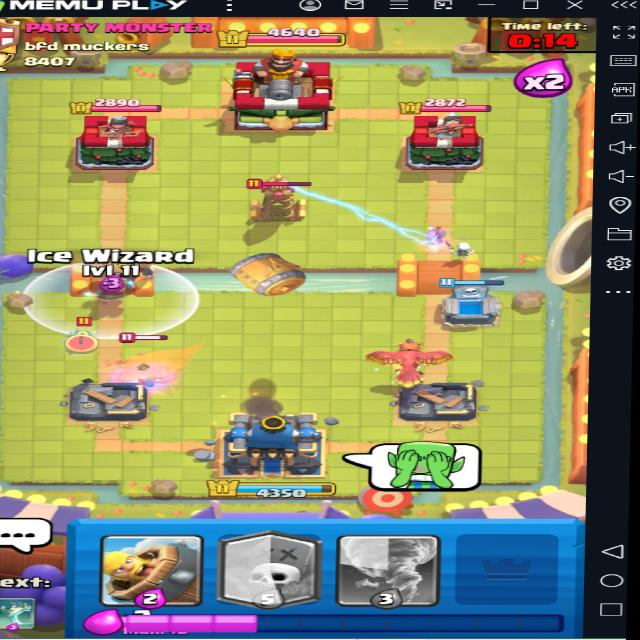archer-queen: (111, 336, 191, 393)
archer-queen-ability: (107, 331, 198, 395)
goblin-barrel: (206, 246, 314, 305)
ice-spirit: (63, 312, 108, 359)
tesla: (243, 165, 318, 232)
